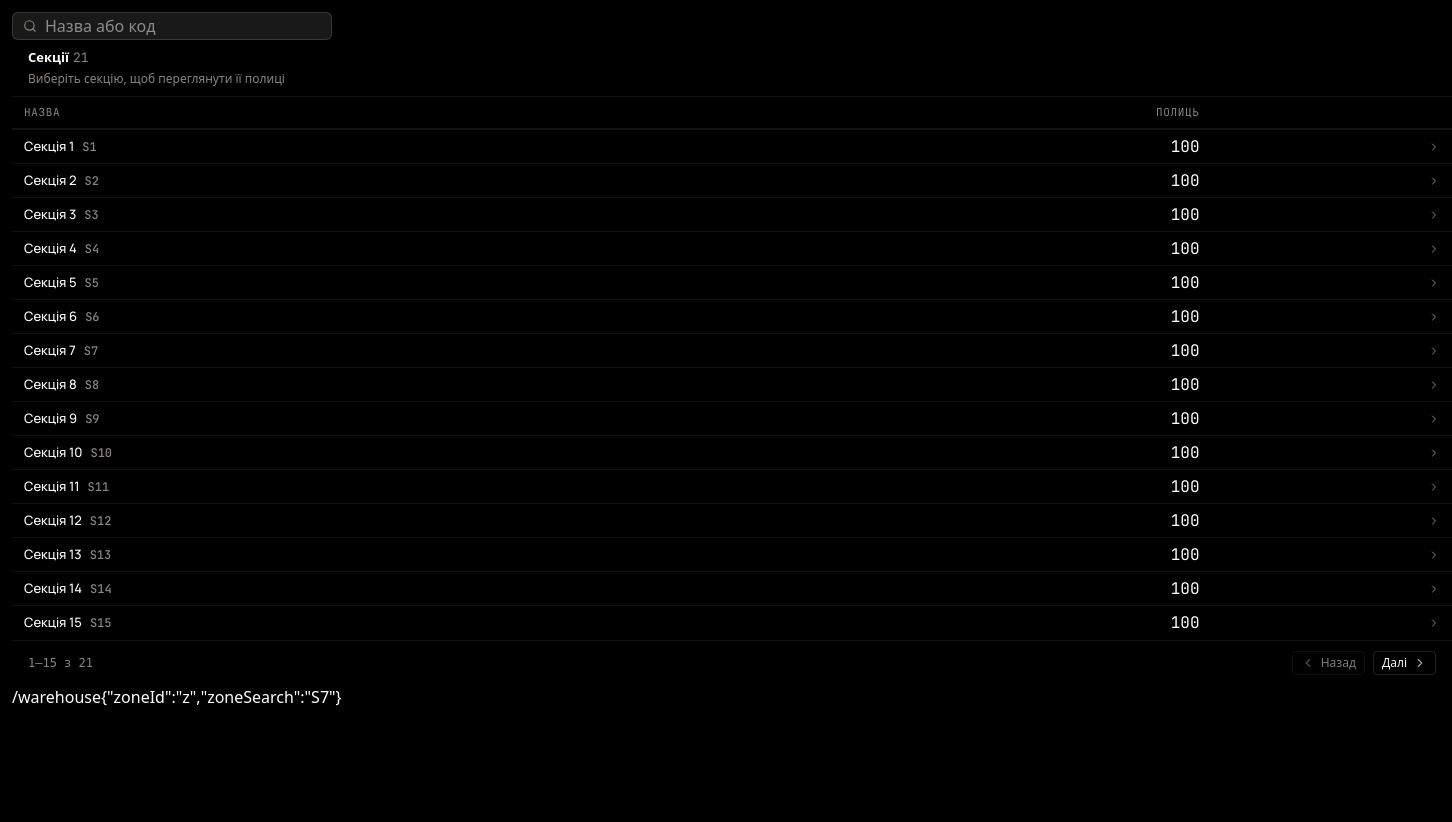
Test: location resource navigation › pages sections by fifteen and restores page from the URL
The image size is (1452, 822).
Click the button with aria-label "Наступна" at (1404, 662), box [1373, 650, 1436, 674]
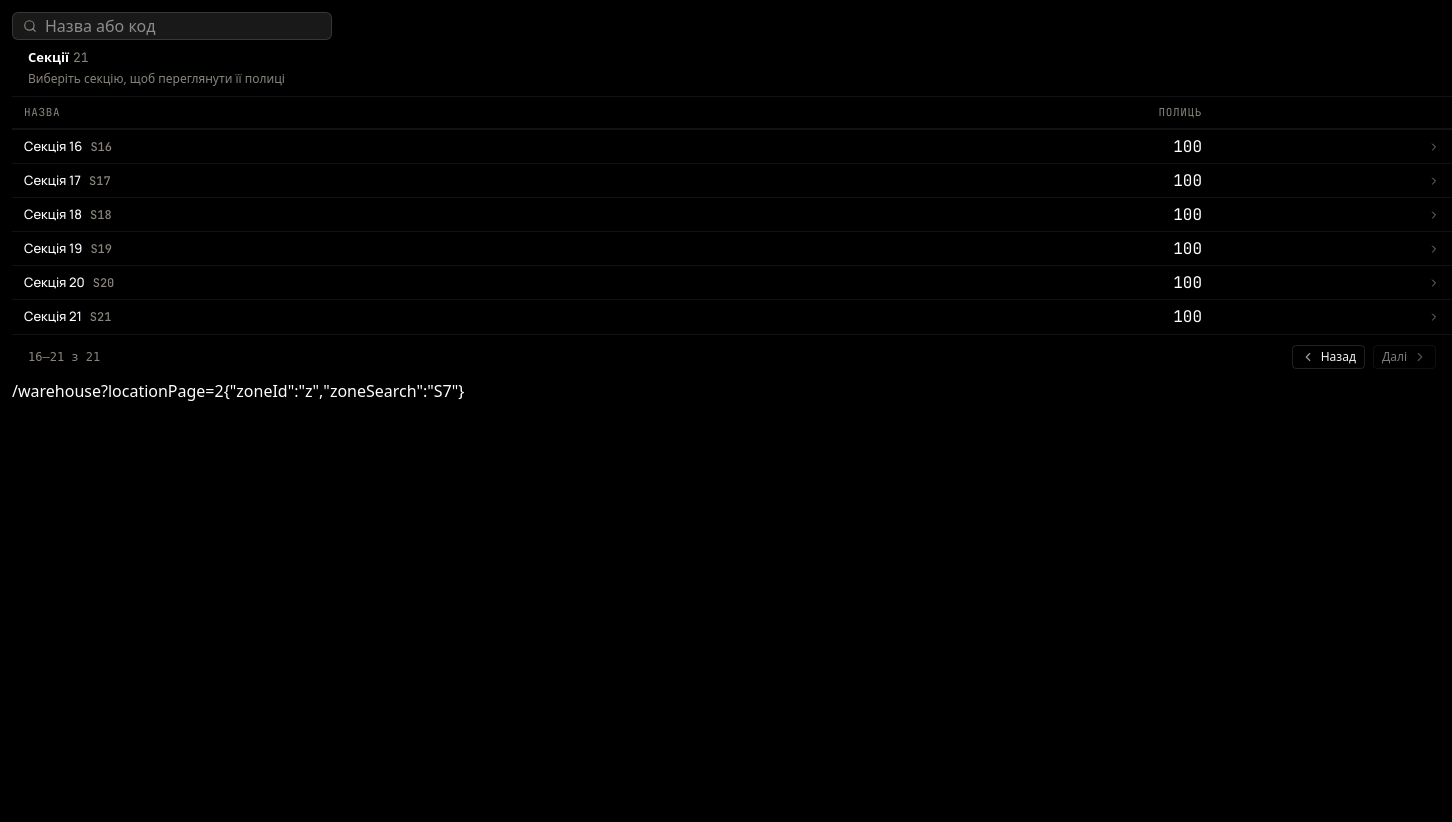
Now the link with aria-label "Секція 16, S16" is shown, box [24, 137, 112, 155]
Now the text with test id "url" shows "locationPage=2", box [101, 380, 224, 402]
Now the number of links "Секція 16 S16" is 6, box [24, 137, 112, 155]; [24, 171, 111, 189]; [24, 205, 112, 223]; [24, 239, 112, 257]; [24, 273, 114, 291]; [24, 307, 112, 325]
Click the button with aria-label "Попередня" at (1328, 356), box [1292, 344, 1365, 368]
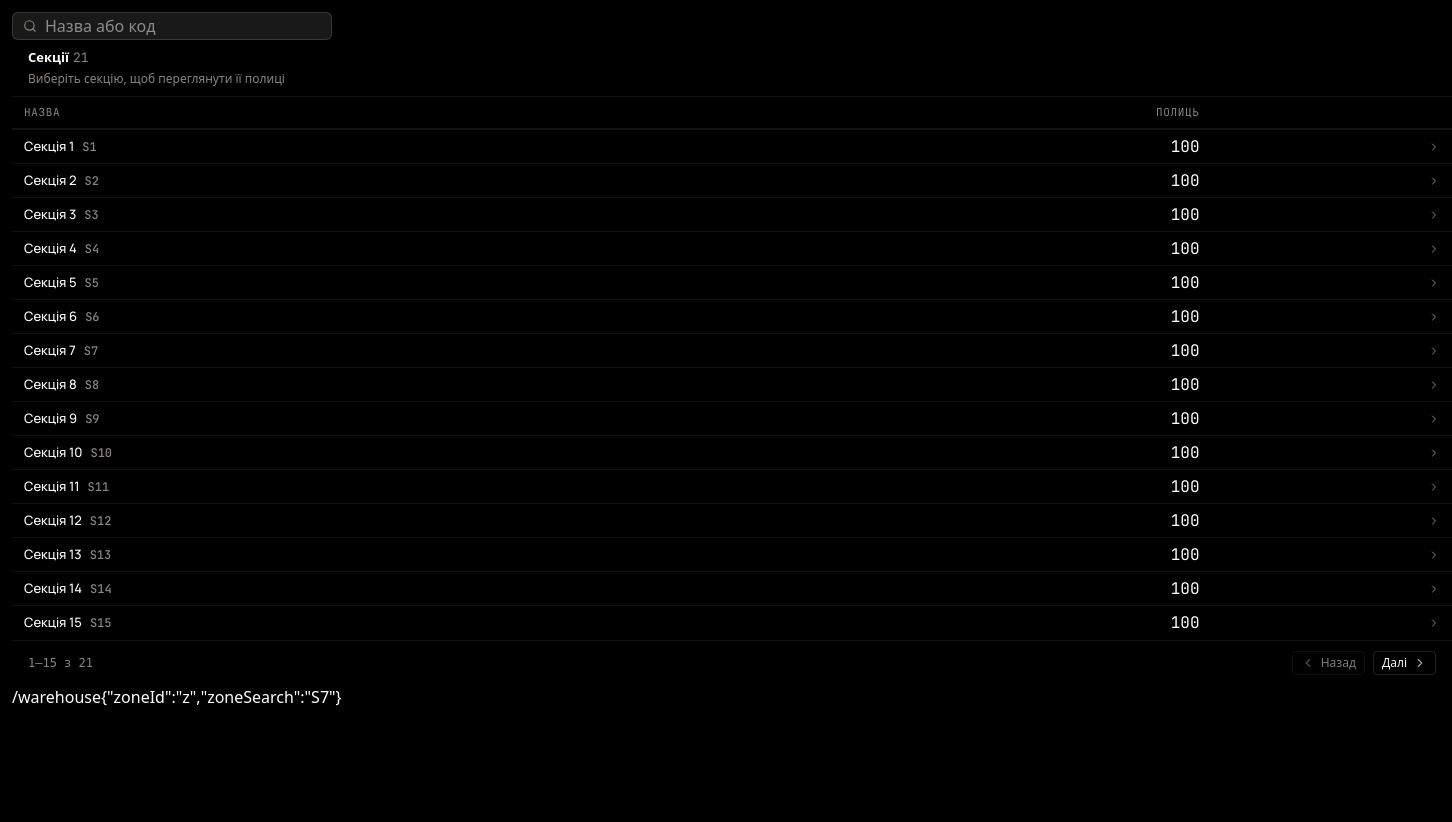
Now the number of links "Секція 1 S1" is 15
